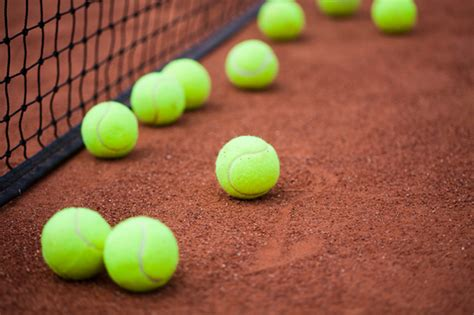tennis_ball: (103, 215, 180, 291), (41, 206, 111, 279), (215, 135, 280, 200), (81, 101, 138, 158), (129, 72, 186, 126), (224, 38, 279, 90), (161, 57, 212, 111), (257, 1, 305, 40), (370, 1, 418, 34), (317, 1, 361, 18)
